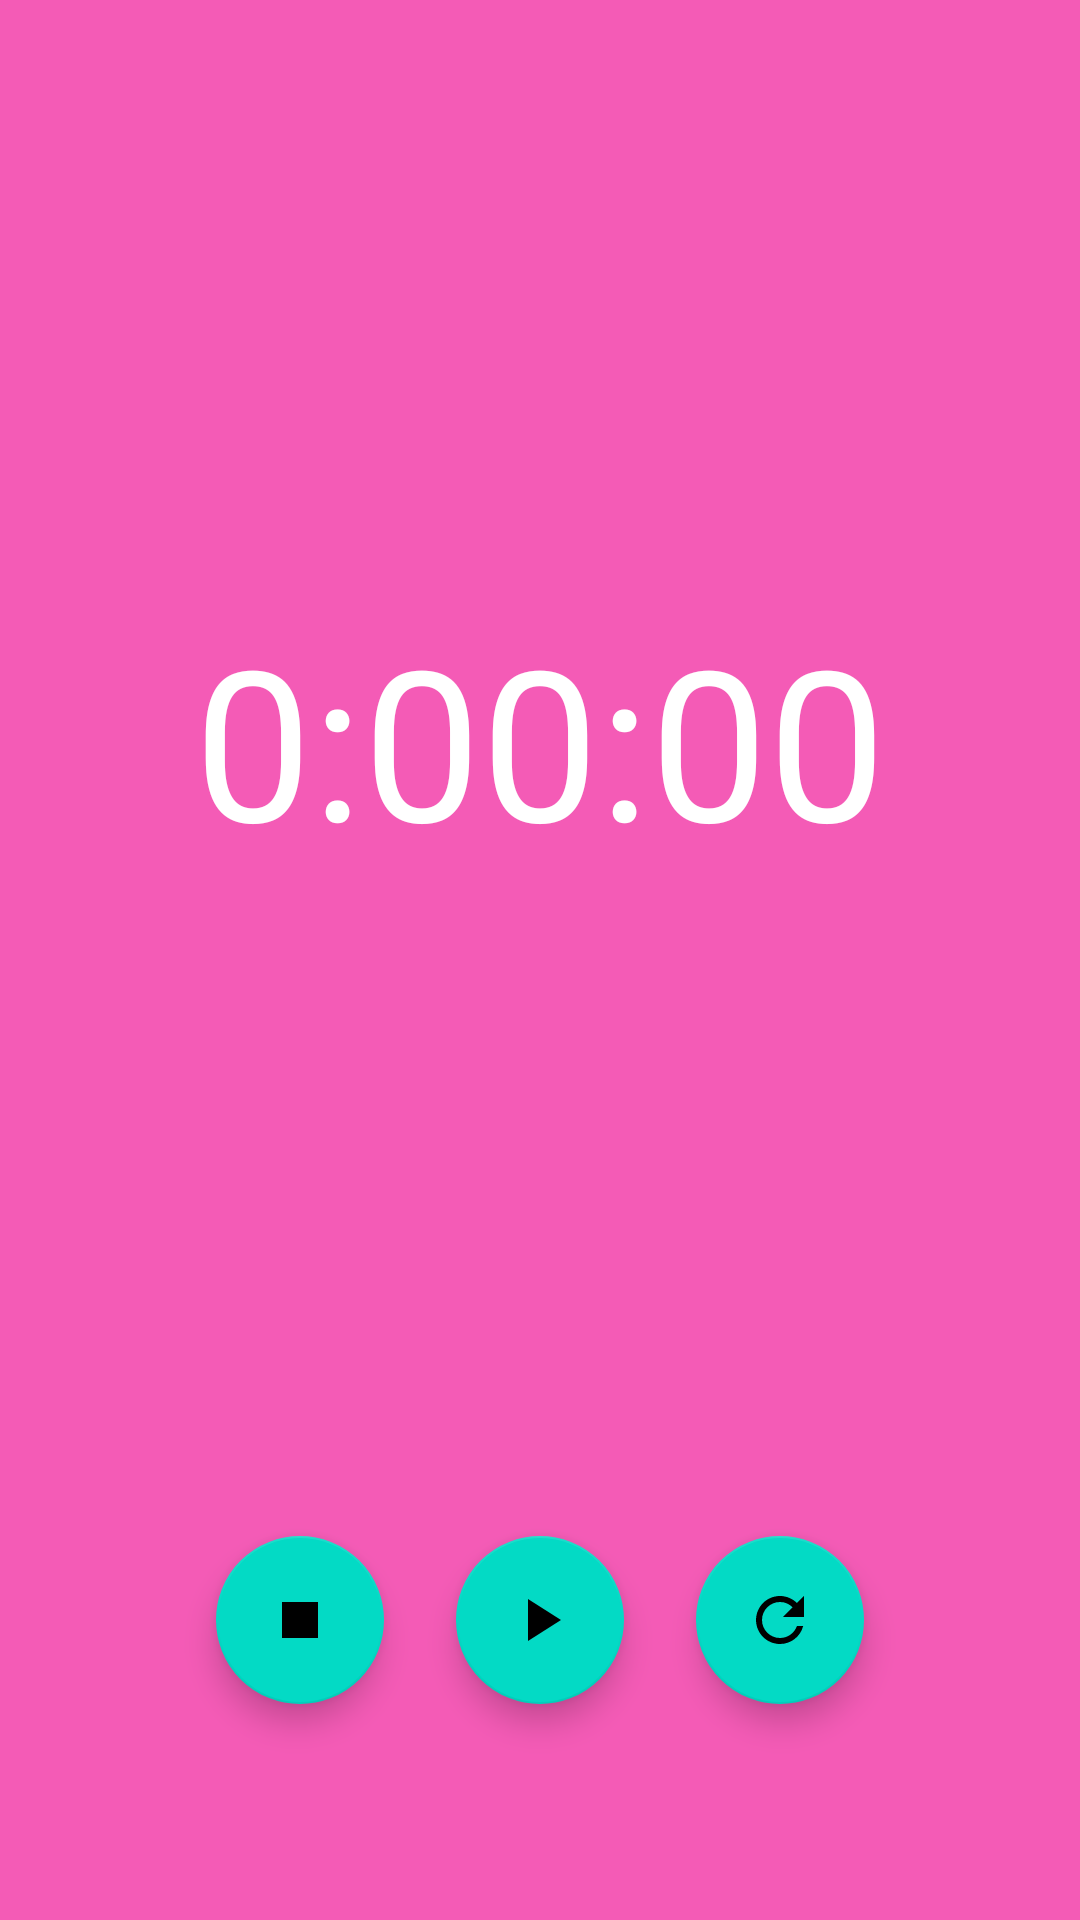

Icon bounding boxes for this 1080x1920 phone screenshot, format (x1, y1, x2, y2):
play: (456, 1536, 624, 1704)
refres: (696, 1536, 864, 1704)
stop: (216, 1536, 384, 1704)
